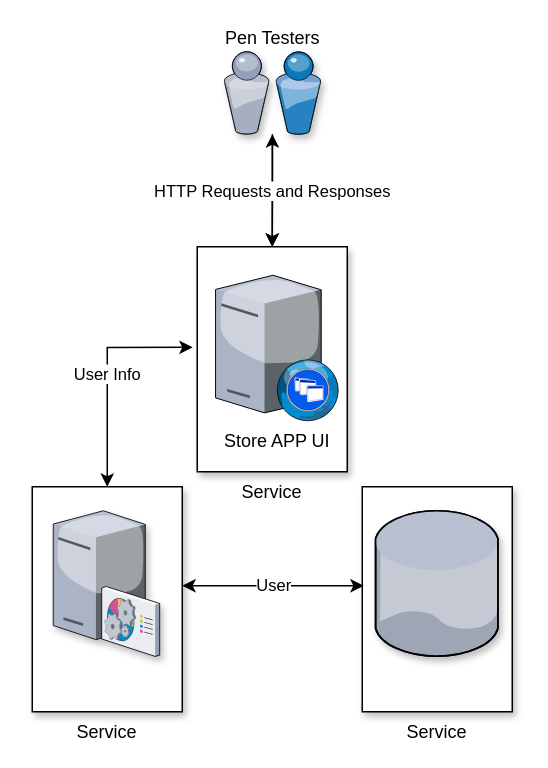
Image size: 548x768. Some labels were removed from this diagram. Here are the shapes that lost their labels. From the top down, the centre of each, then its label:
the point at 107,585: User API
the point at 438,585: User Database
